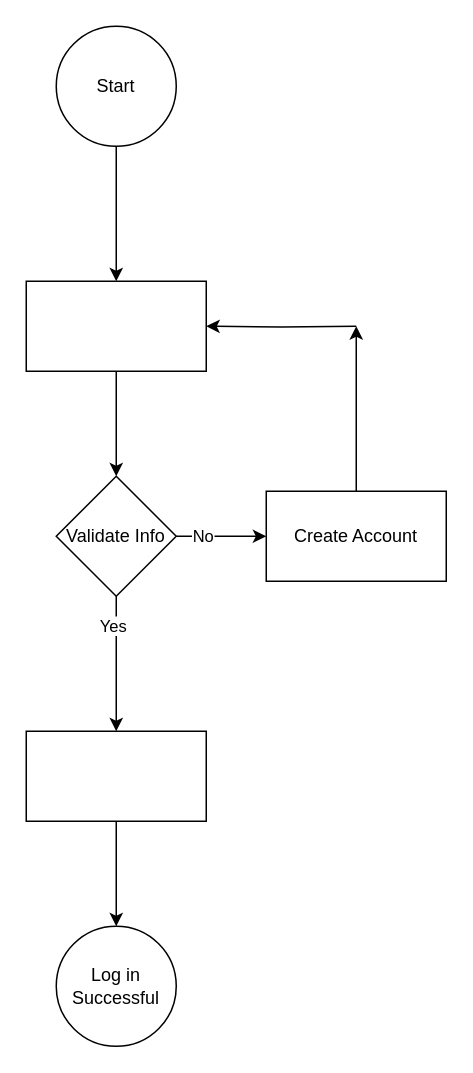
Image size: 473x1073. Some labels were removed from this diagram. Here are the shapes that lost their labels. From the top down, the centre of each, then its label:
At (x=115, y=325): "Enter Info".
At (x=115, y=775): "Check Credentials in Data Base".
